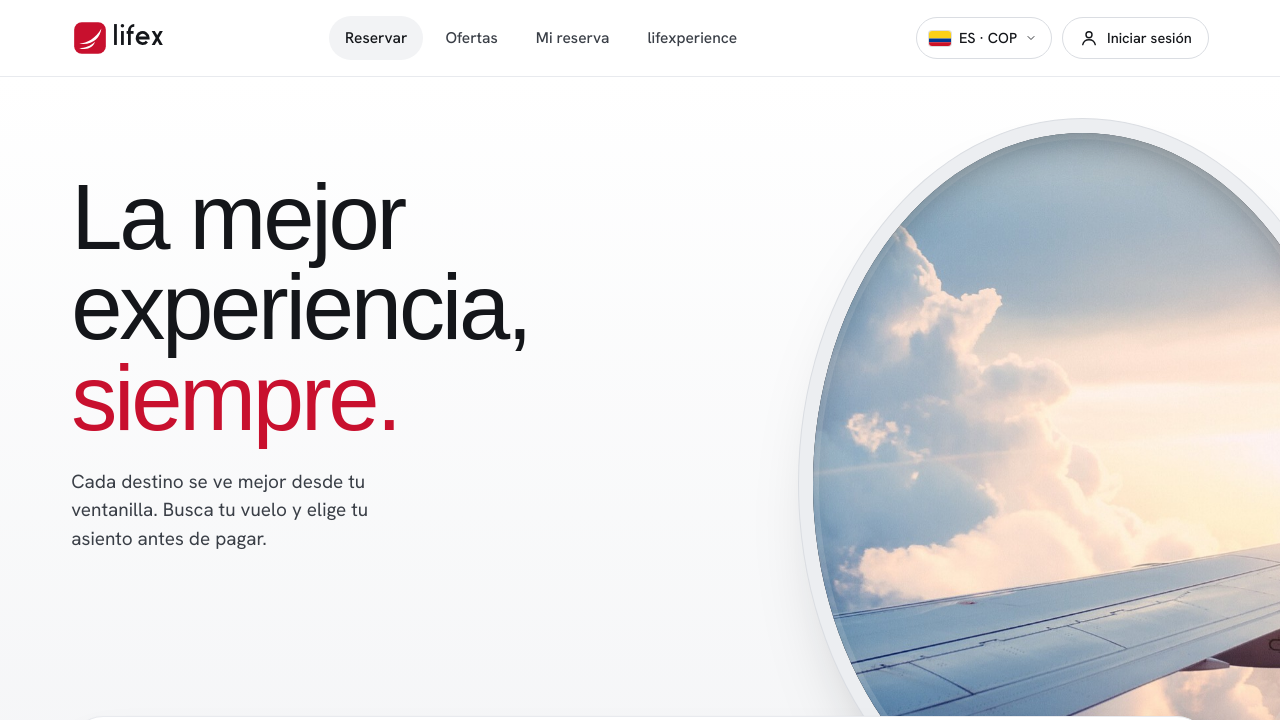
Home › el encabezado lleva el login al panel admin y cambia con el idioma
The image size is (1280, 720).
Click the button with aria-label "idioma y moneda" at {"x": 984, "y": 38}, box [916,17,1052,59]
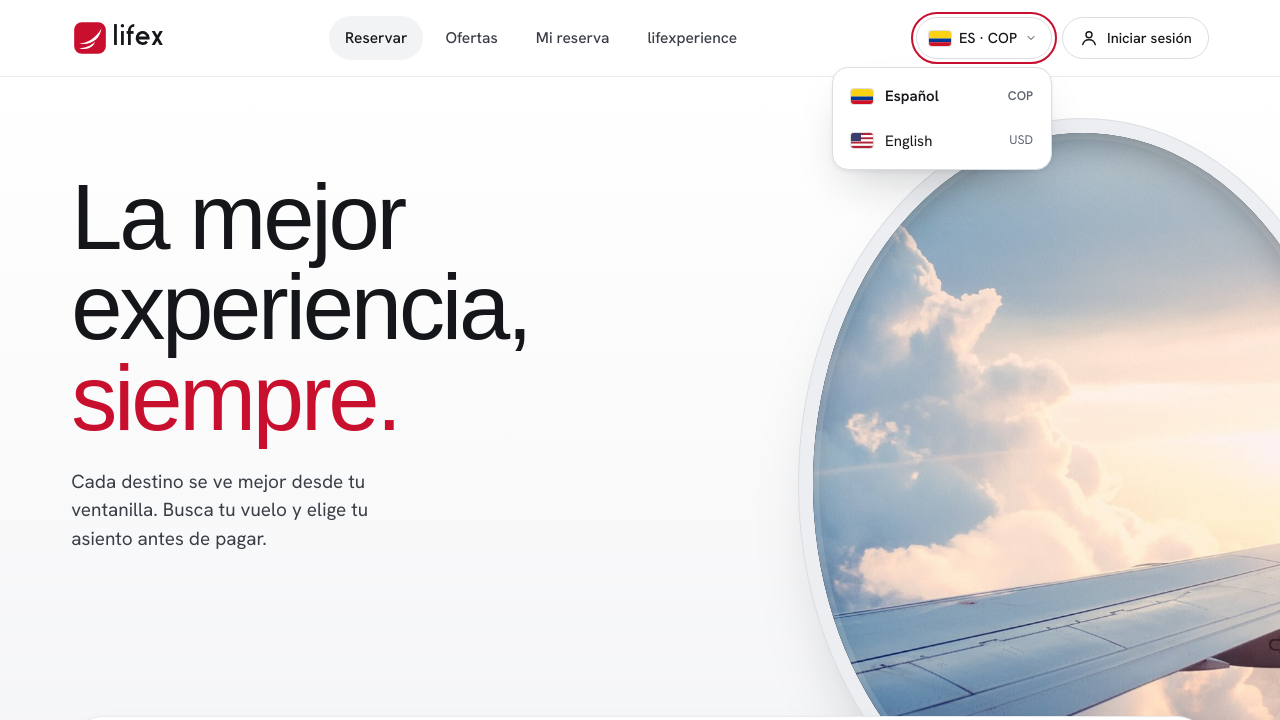
Click the menu item "English USD" at {"x": 942, "y": 141}, box [839,118,1045,163]
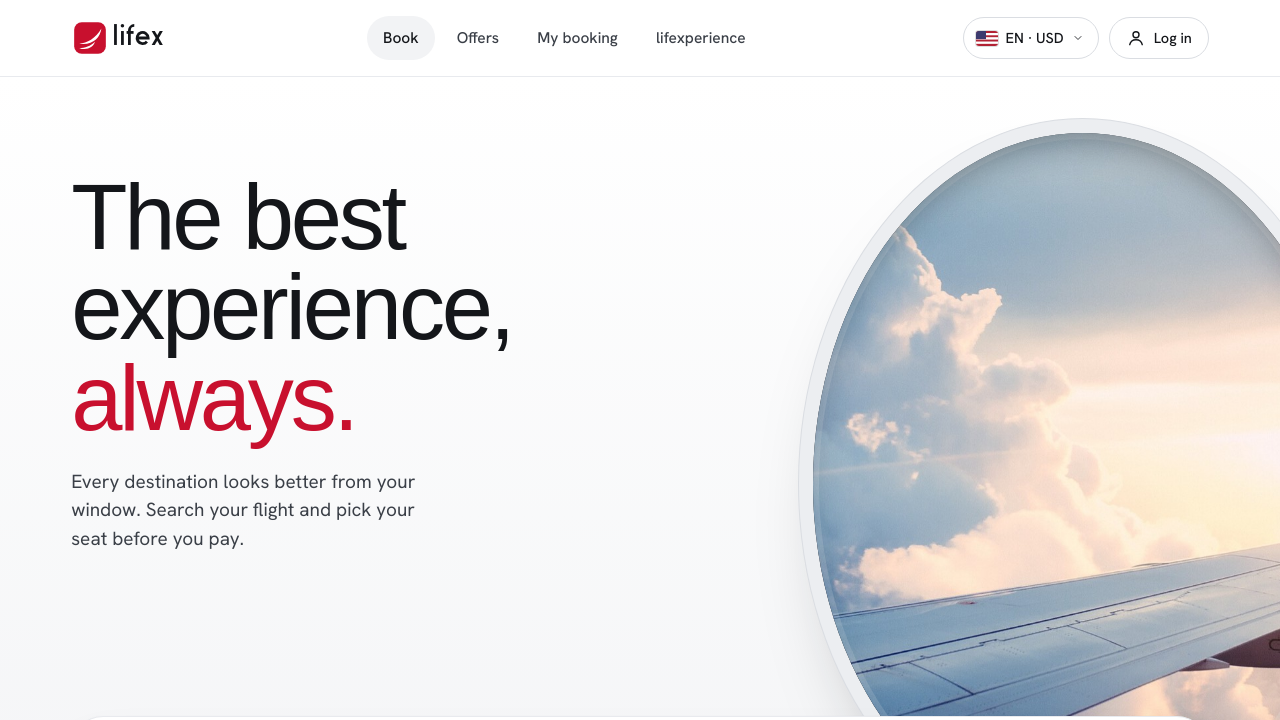
Check: the text "EN · USD" is shown, box [1006,27,1064,49]
